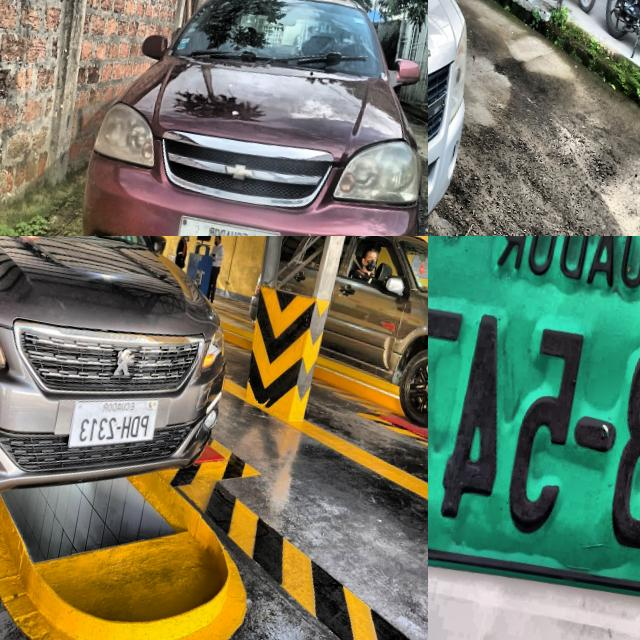license_plate: (428, 236, 640, 605), (64, 397, 160, 453), (170, 211, 283, 236)
